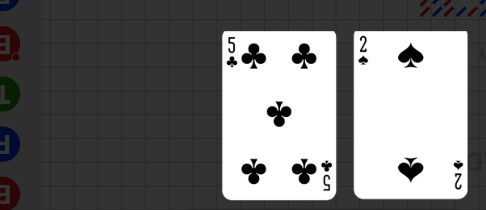2S: (357, 35, 370, 68)
5C: (225, 35, 239, 70)
